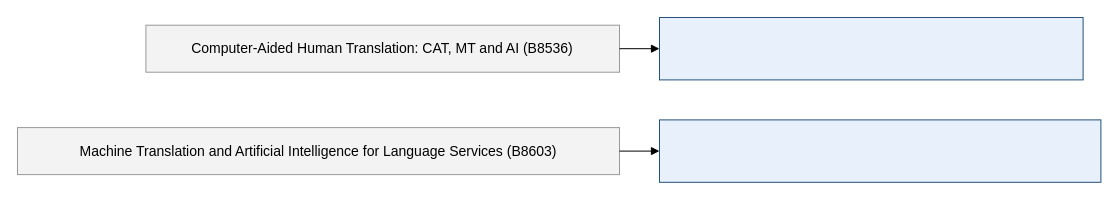
The diagram is 1119 pixels wide and 200 high, and some of its shapes have lost their labels. Each missing label, with the centre of its shape:
"CAT Workflows and Machine-Translation Integration 2 ECTS" belongs at point 870,48.
"Machine-Translation Operations and Ethical Evaluation 2 ECTS" belongs at point 879,150.
